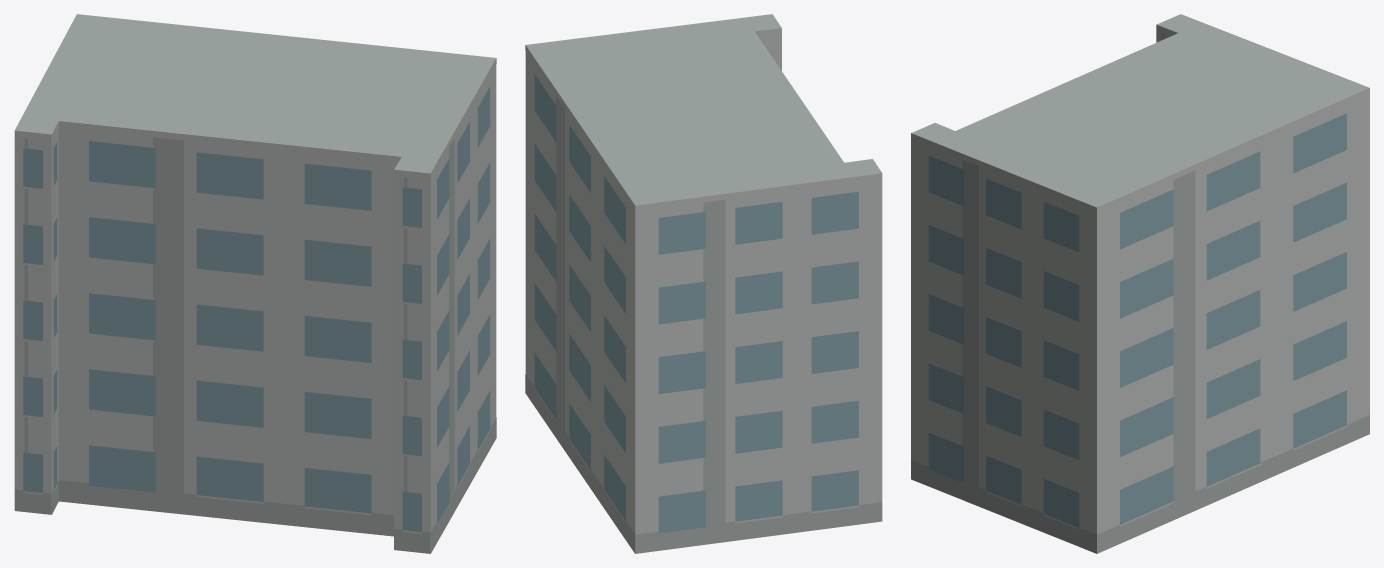
The model's file is survey-upis-32842819.glb.
3 renders of one model, left to right at view 1: azimuth 30°, elevation 25°; view 2: azimuth 150°, elevation 25°; view 3: azimuth 270°, elevation 25°, orthographic. The views are drawn at different scales.
Parts seen in each view (by area): view 1: survey-upis-32842819.tmp; view 2: survey-upis-32842819.tmp; view 3: survey-upis-32842819.tmp.
Boxes of the visible parts, x1,y1,x2,y2 form: survey-upis-32842819.tmp: (14, 14, 496, 553); survey-upis-32842819.tmp: (525, 14, 882, 553); survey-upis-32842819.tmp: (911, 14, 1369, 553).
Size of the model in its own units: 17.39 by 14.5 by 17.42.
